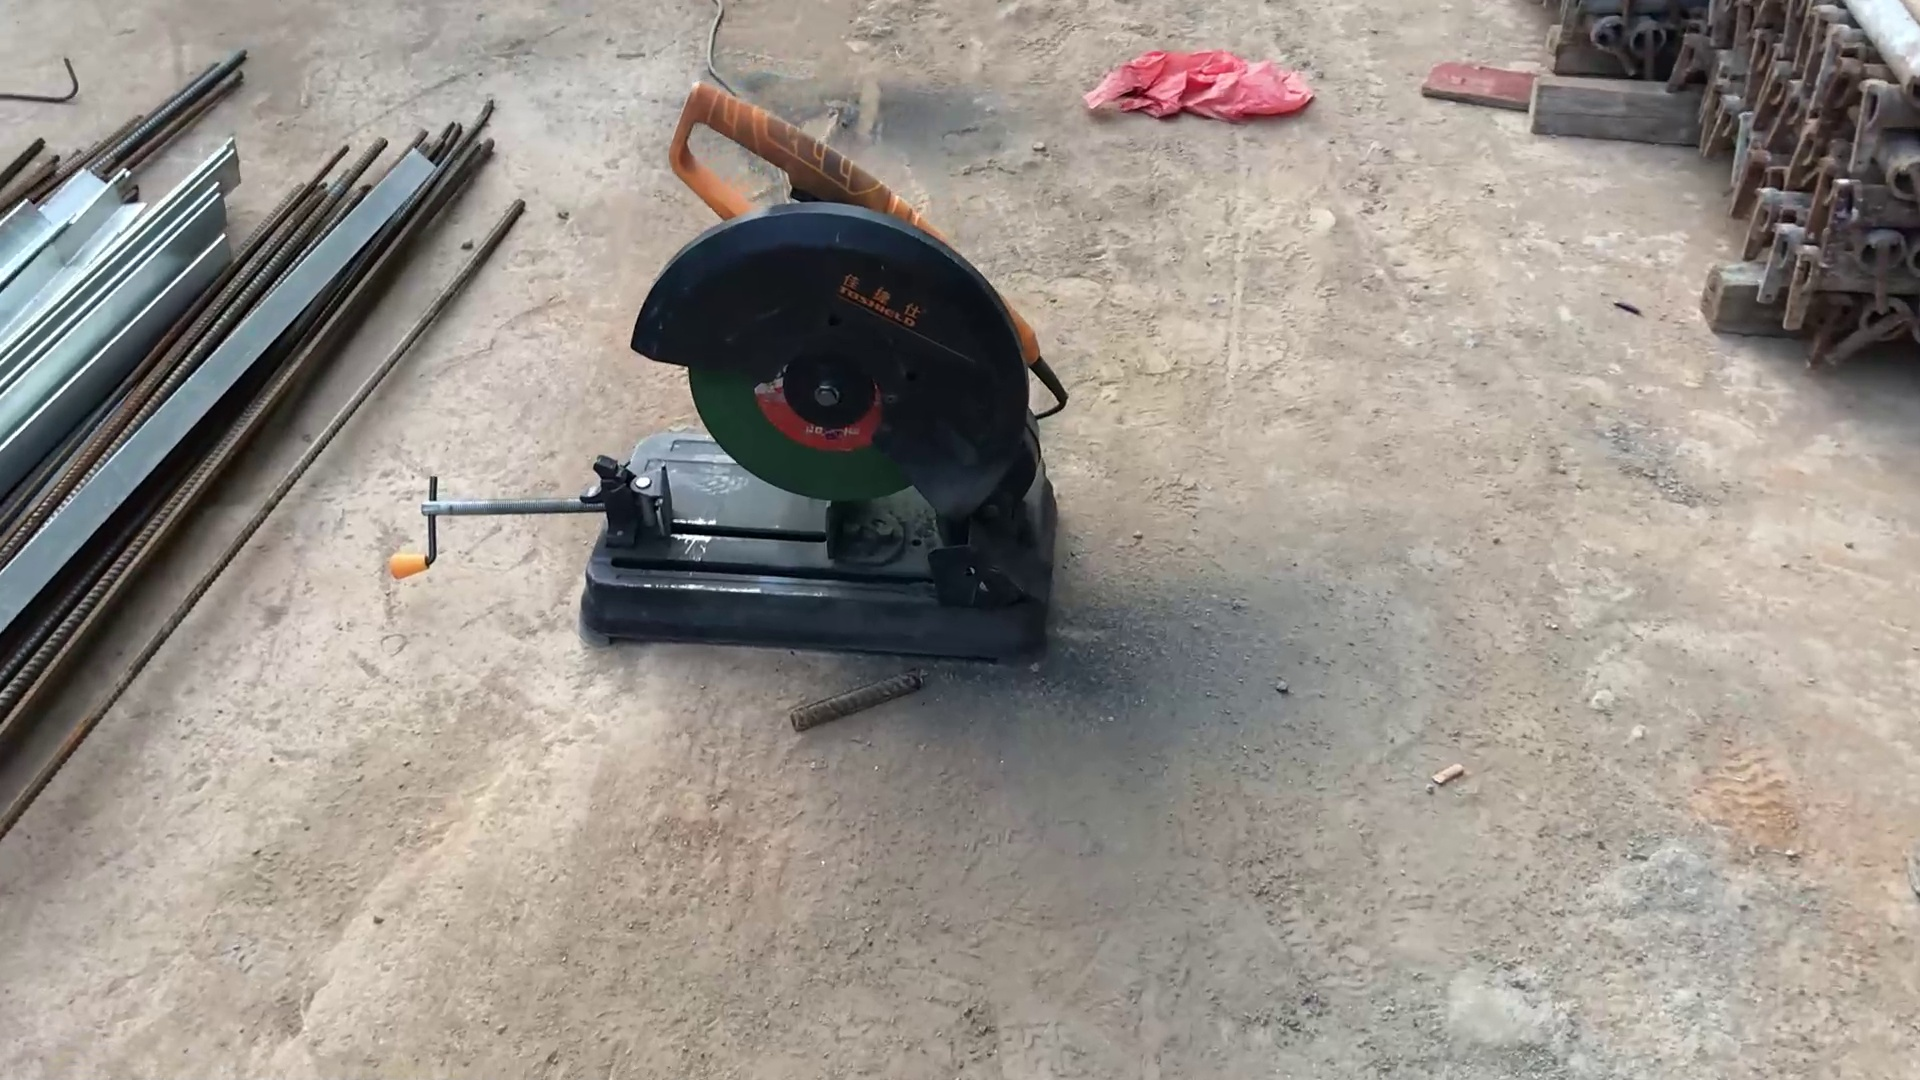cutter: (493, 57, 1096, 676)
